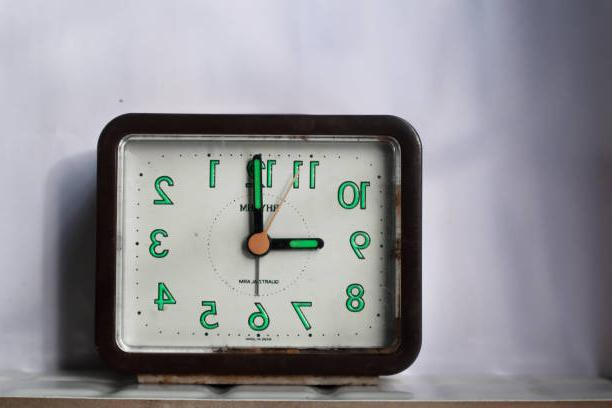clock: (91, 108, 425, 388)
